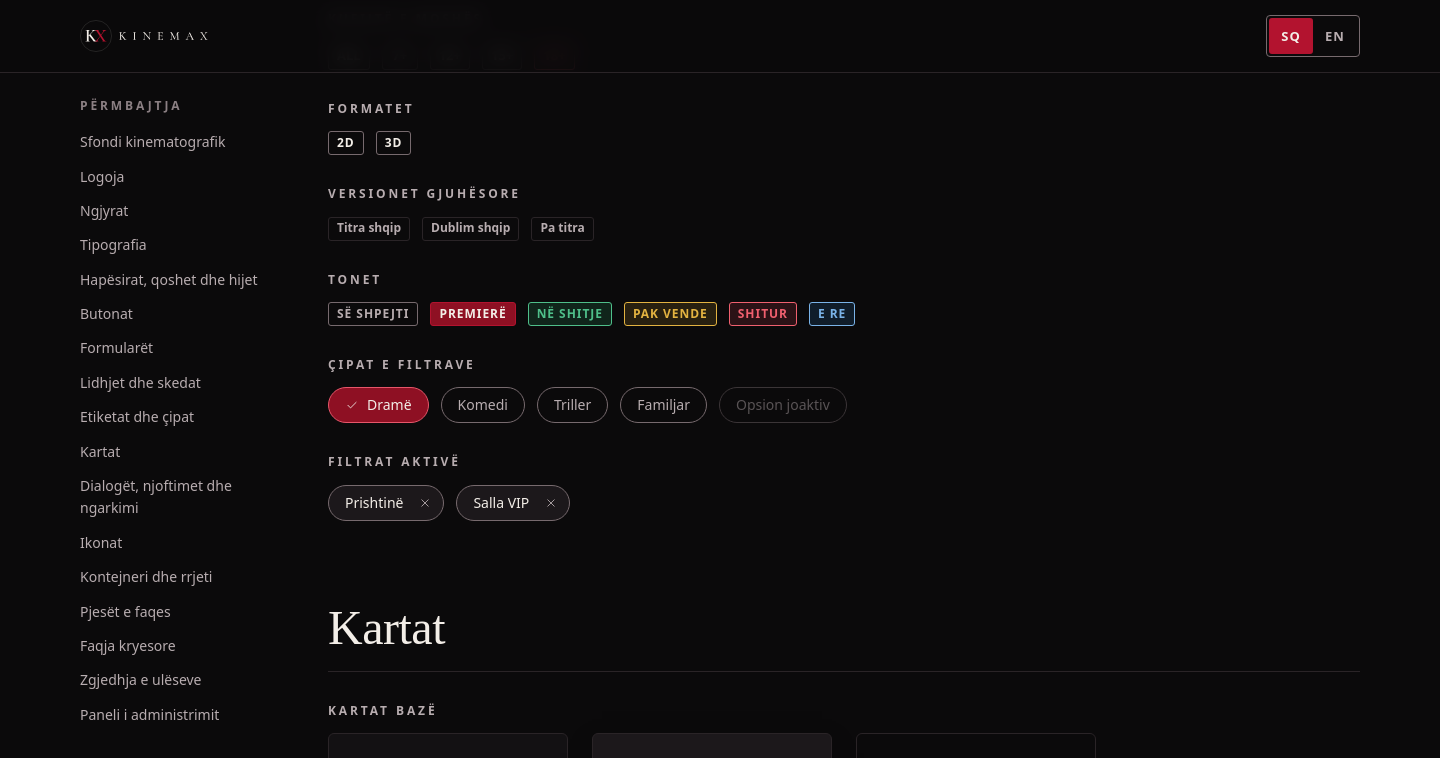
Test: StyleguidePage › has working chips, radios and tabs
The image size is (1440, 758).
(page scrolled)
Step 1. Click the button "Komedi" → (483, 405), box 441,387 -> 525,423
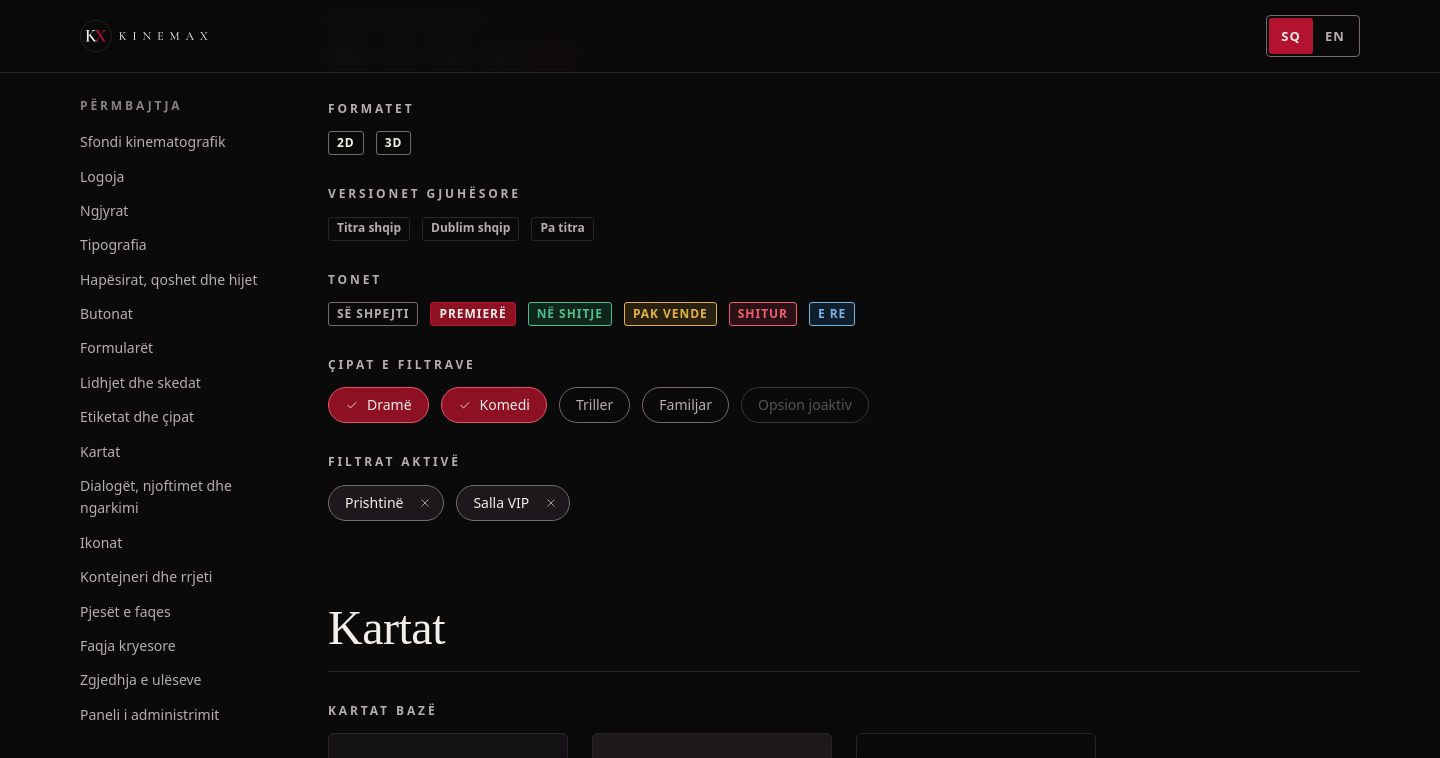
Expected: the button "Komedi" is pressed
Step 2. Click the button "Komedi" → (494, 405), box 441,387 -> 547,423
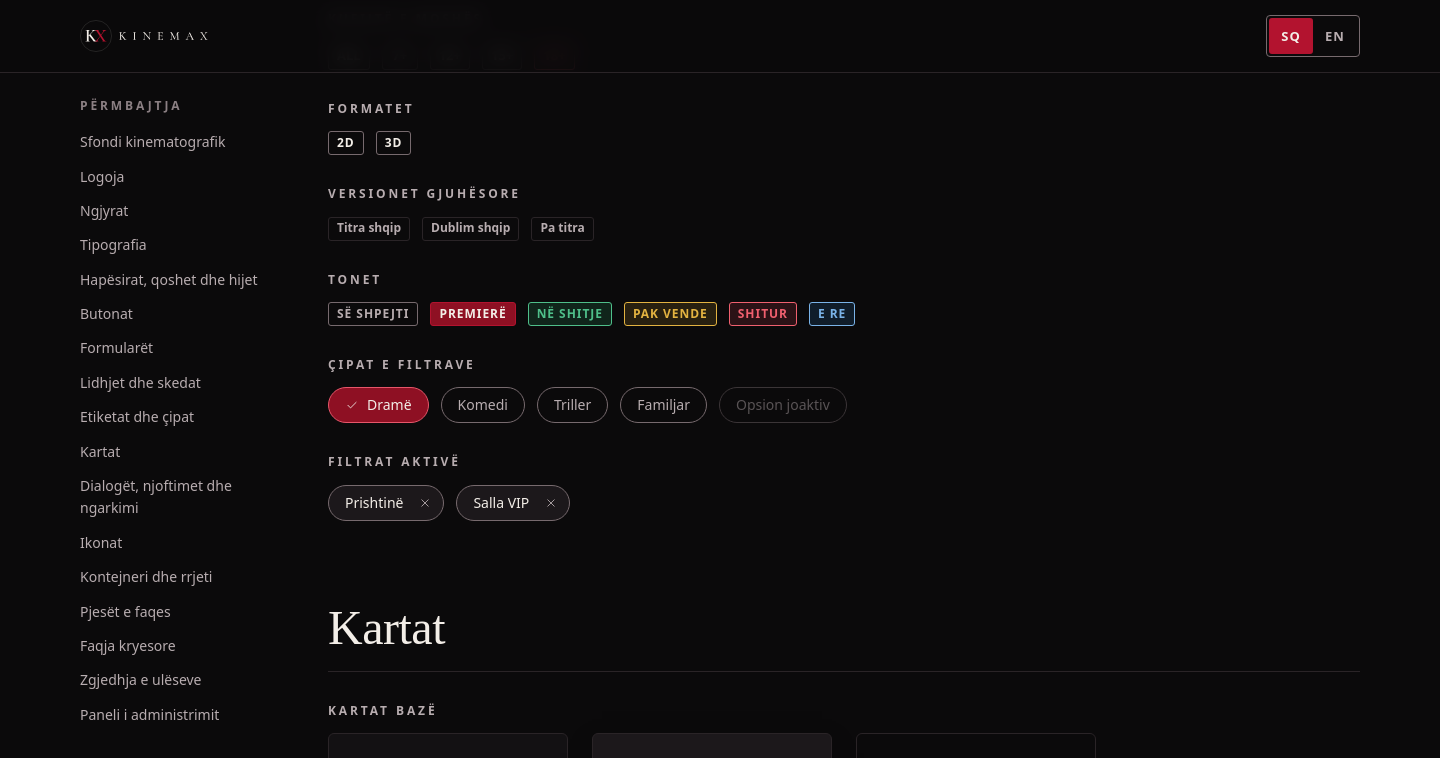
Expected: the button "Komedi" is not pressed, 441,387 -> 525,423
Step 3. Click the button named "Hiq Salla VIP" → (551, 503), box 537,489 -> 565,517
(page scrolled)
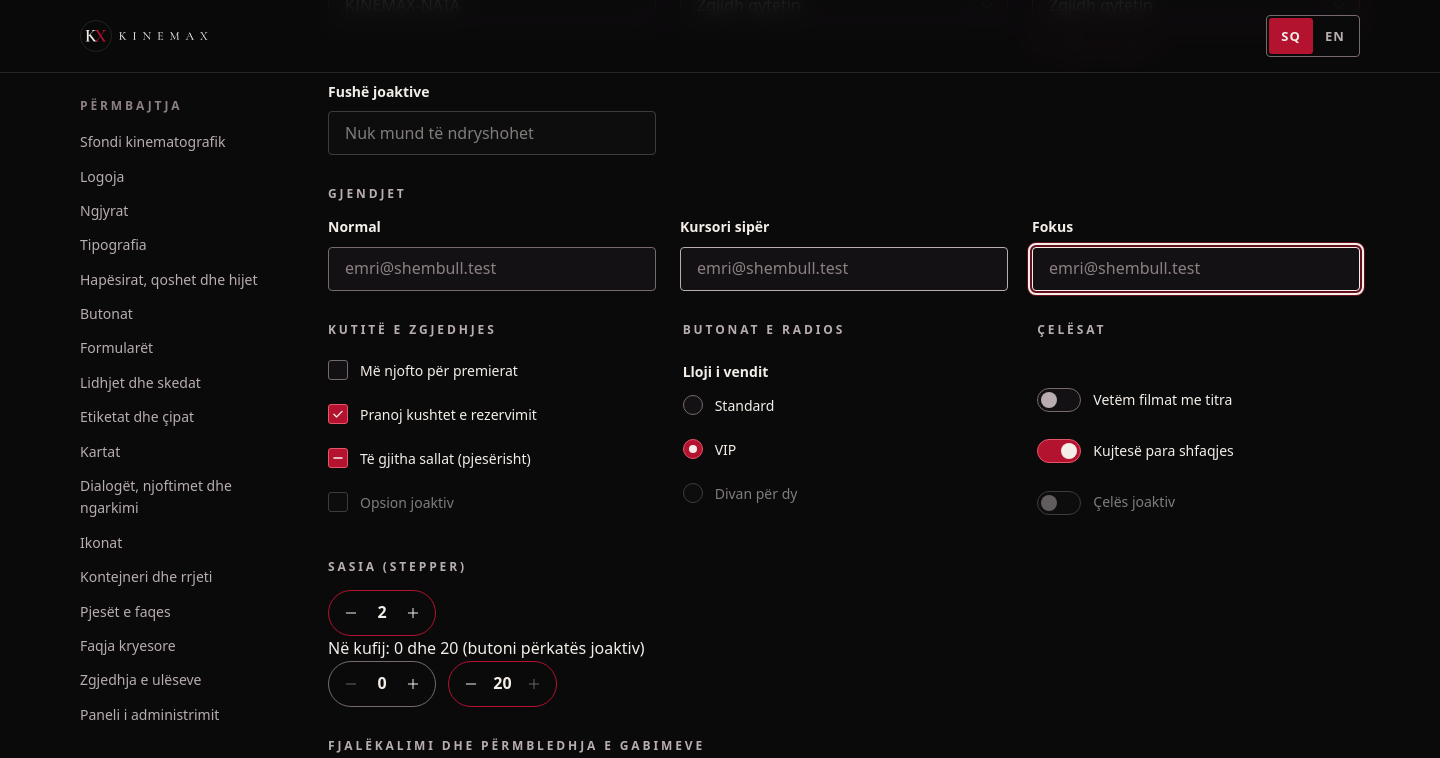
Step 4. Click the radio button labelled "Standard" → (693, 405), box 683,395 -> 703,415
(page scrolled)
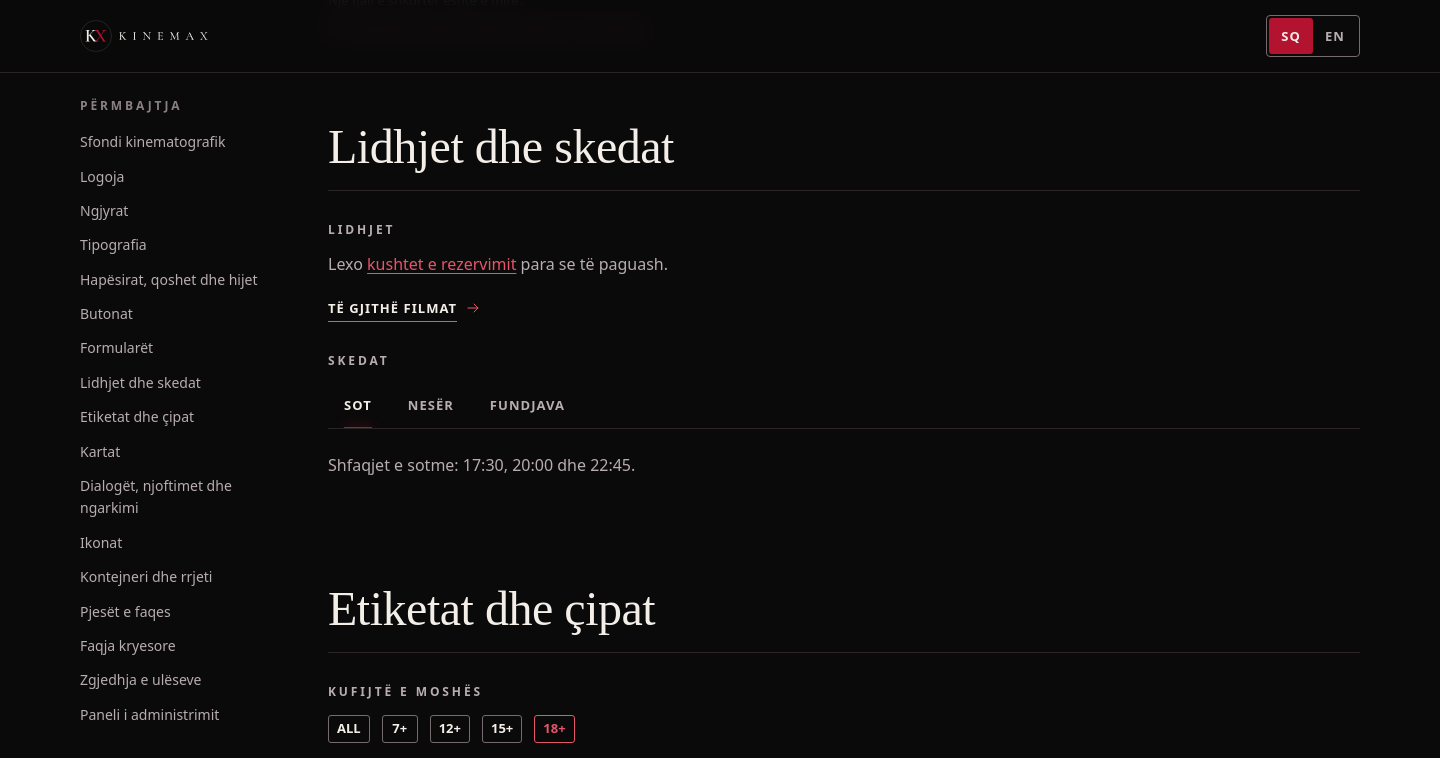
// The navigation demo (the home section has its own day tabs).
Step 5. Click the tab "Nesër" → (431, 406), box 392,384 -> 470,428
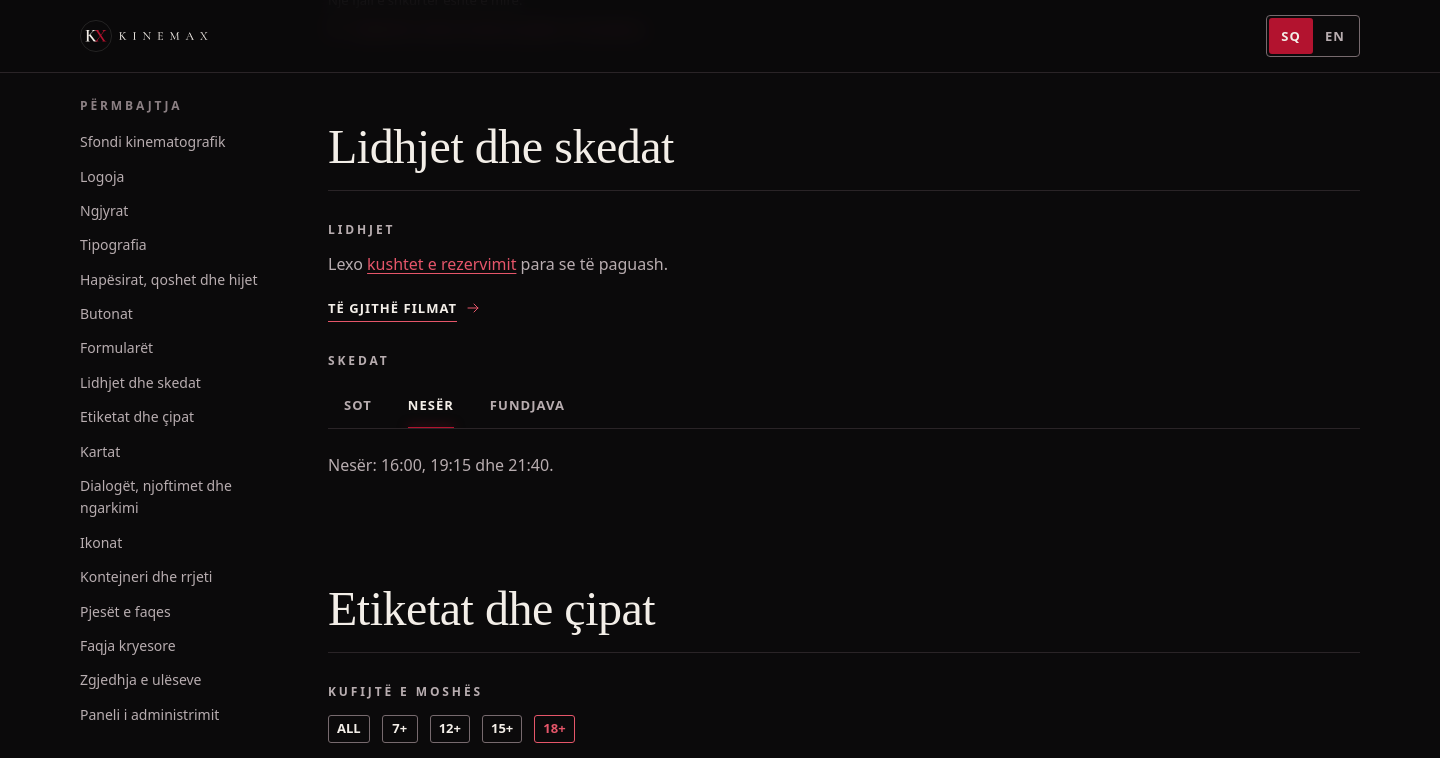
Expected: the panel shows "Nesër: 16:00", 328,454 -> 553,476
